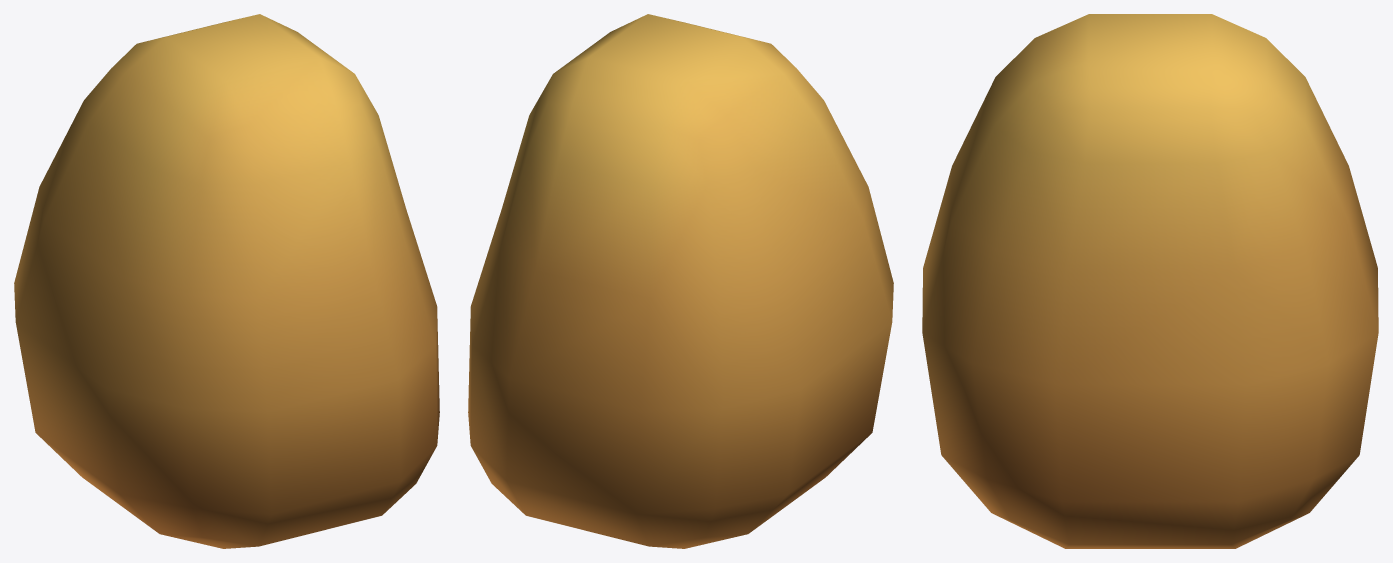
The model's file is food_ingredient_potato.obj.
3 views of the same model, side by side, from view 1: azimuth 30°, elevation 25°; view 2: azimuth 150°, elevation 25°; view 3: azimuth 270°, elevation 25° (orthographic). The views are drawn at different scales.
Parts seen in each view (by area): view 1: food_ingredient_potato_Cube.18442; view 2: food_ingredient_potato_Cube.18442; view 3: food_ingredient_potato_Cube.18442.
Boxes of the visible parts, left/top/right/bottom form: food_ingredient_potato_Cube.18442: left=14, top=14, right=439, bottom=548; food_ingredient_potato_Cube.18442: left=468, top=14, right=893, bottom=548; food_ingredient_potato_Cube.18442: left=922, top=14, right=1378, bottom=548.
Size of the model in its own units: 0.6 by 0.78 by 0.68.
1 material, 1 textured.
